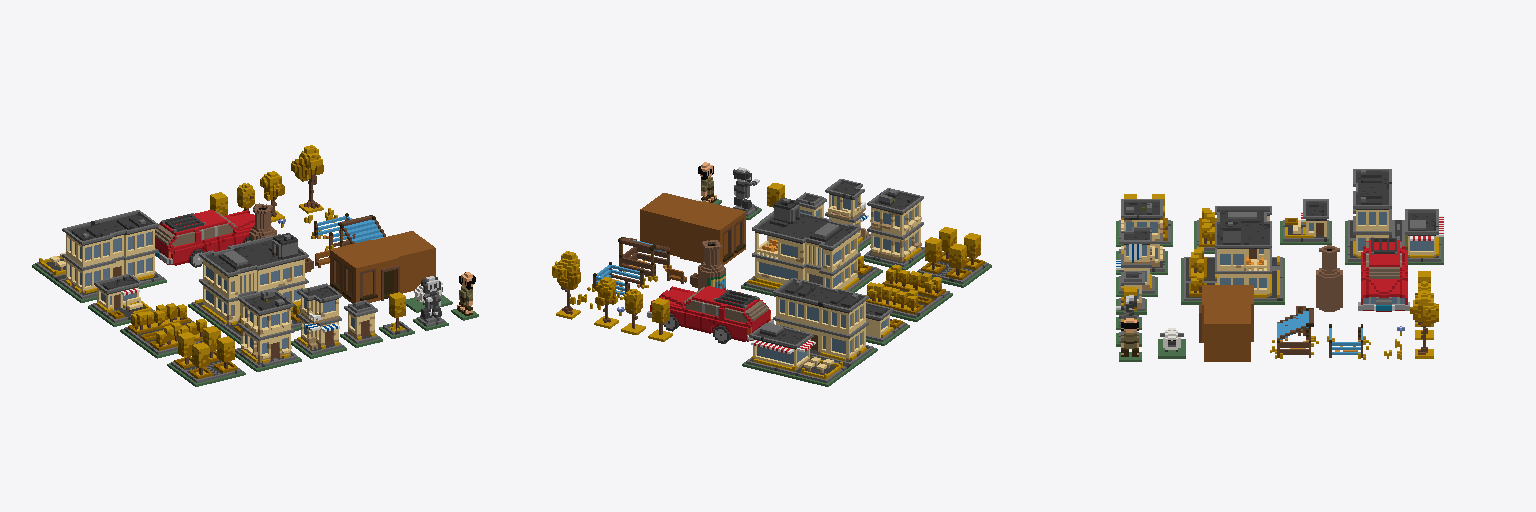
3 renders of one model, left to right at view 1: azimuth 30°, elevation 25°; view 2: azimuth 150°, elevation 25°; view 3: azimuth 270°, elevation 25°, orthographic.
Bounding box in the file's own units: 126 × 31 × 126.
1 materials, 1 textured.